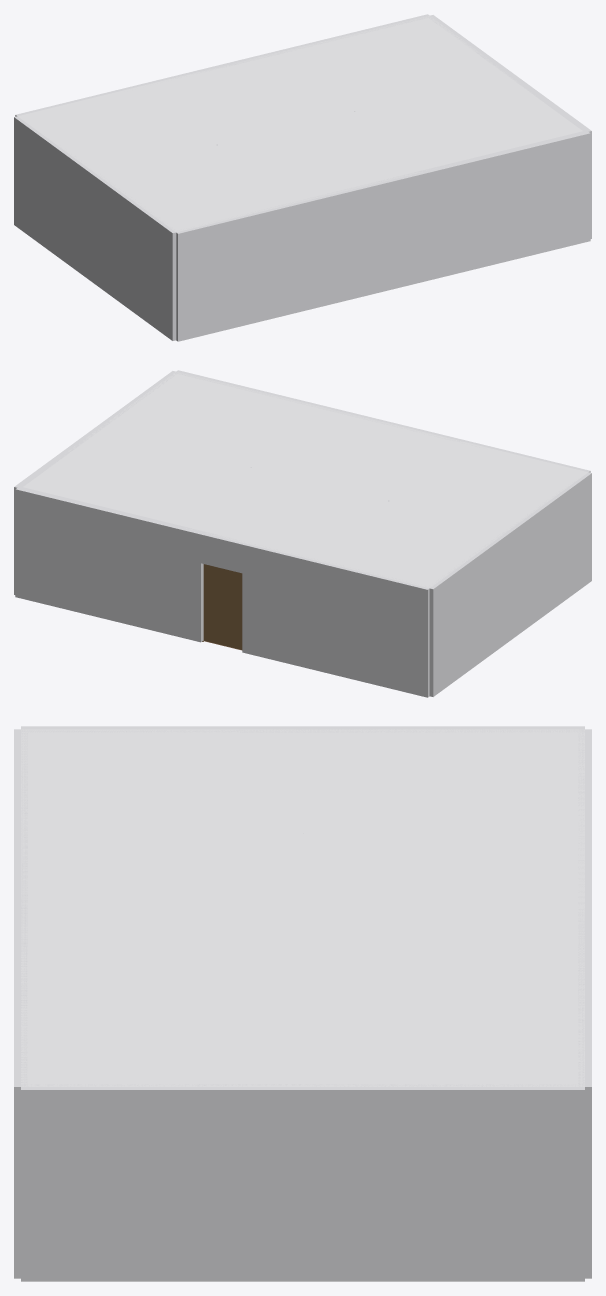
The model's file is bar_venue_more_realistic.glb.
3 views of the same model, one above another, from view 1: azimuth 30°, elevation 25°; view 2: azimuth 150°, elevation 25°; view 3: azimuth 270°, elevation 25° (orthographic). The views are drawn at different scales.
Parts seen in each view (by area): view 1: Ceiling, Wall_Back, Wall_Left, Wall_Right, Wall_Front_Right, Wall_Front_Left; view 2: Ceiling, Wall_Front_Right, Wall_Front_Left, Wall_Left, Door, Wall_Back, Wall_Front_Lintel, Wall_Right; view 3: Ceiling, Wall_Right, Wall_Back, Wall_Front_Right, Wall_Left, Wall_Front_Left.
Part boxes in pixels (box(x1,y1,x2,y2)): Ceiling: box(18, 16, 582, 232); Wall_Back: box(176, 130, 590, 341); Wall_Left: box(14, 116, 176, 340); Wall_Right: box(427, 15, 591, 238); Wall_Front_Right: box(242, 14, 430, 62); Wall_Front_Left: box(15, 69, 203, 116); Ceiling: box(23, 372, 587, 588); Wall_Front_Right: box(15, 486, 204, 642); Wall_Front_Left: box(242, 543, 430, 697); Wall_Left: box(429, 472, 591, 696); Door: box(203, 564, 242, 649); Wall_Back: box(175, 370, 590, 472); Wall_Front_Lintel: box(201, 532, 244, 573); Wall_Right: box(14, 371, 177, 594); Ceiling: box(21, 729, 584, 1086); Wall_Right: box(21, 1084, 584, 1281); Wall_Back: box(14, 729, 27, 1278); Wall_Front_Right: box(578, 926, 591, 1278); Wall_Left: box(21, 726, 584, 732); Wall_Front_Left: box(578, 729, 591, 890).
Size of what is drawn, in the model's own units: 12.2 by 3.04 by 8.2.
